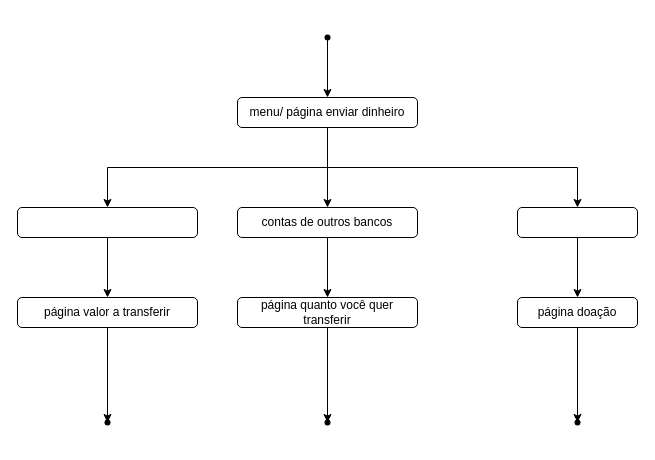
This 655x460 diagram has some shape labels left out. Each missing label, with the centre of its shape:
"fazer doação" goes at pixel 577 222.
"para contas Banco Livre" goes at pixel 107 222.
